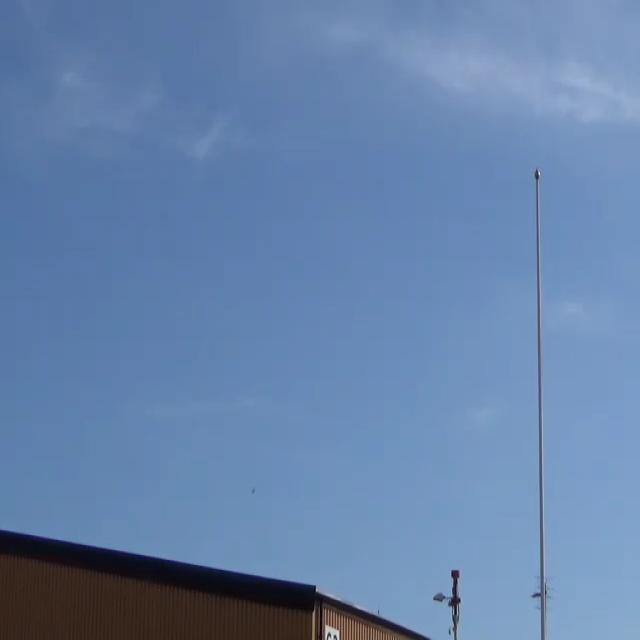Helicopter: (242, 478, 266, 503)
